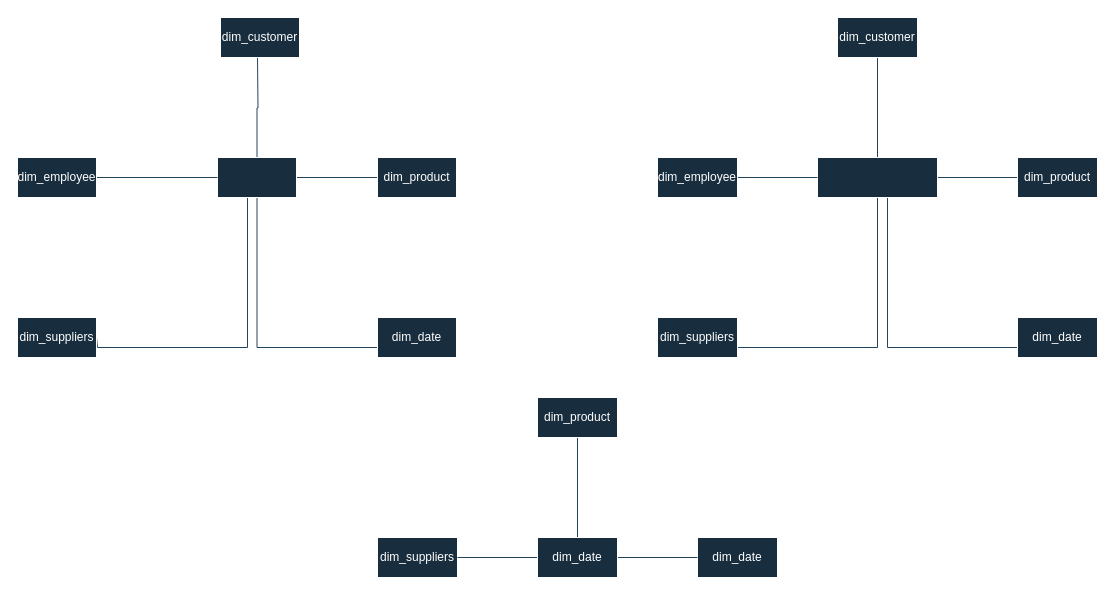
Some shapes in this 1115 by 595 pixel diagram are drawn without their labels. The centre of each missing label's shape, as x and y in pixels:
"fact_purchase_order" goes at pixel 877 177.
"fact_sales" goes at pixel 256 177.
